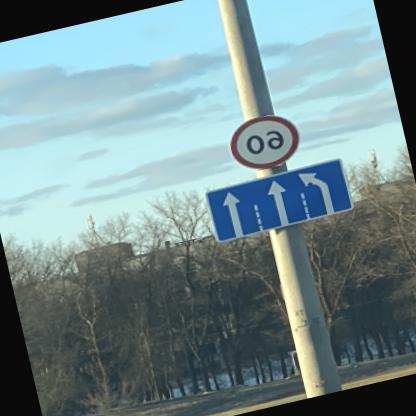speedlimit: (227, 107, 308, 174)
